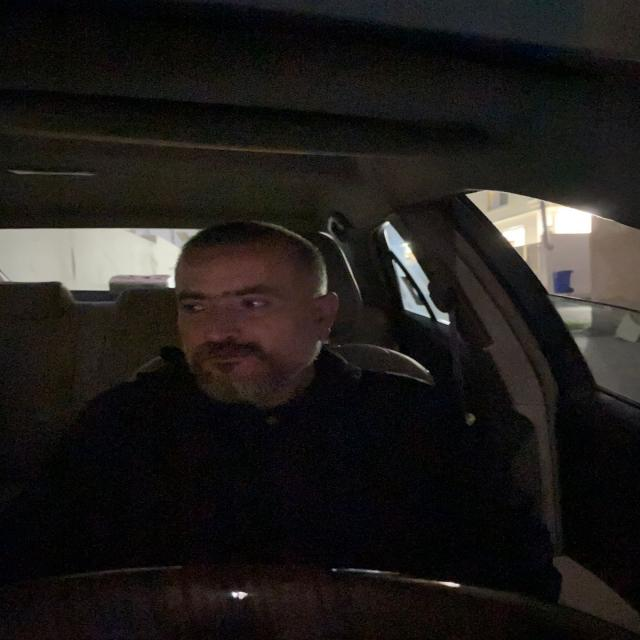person: (160, 218, 342, 408)
